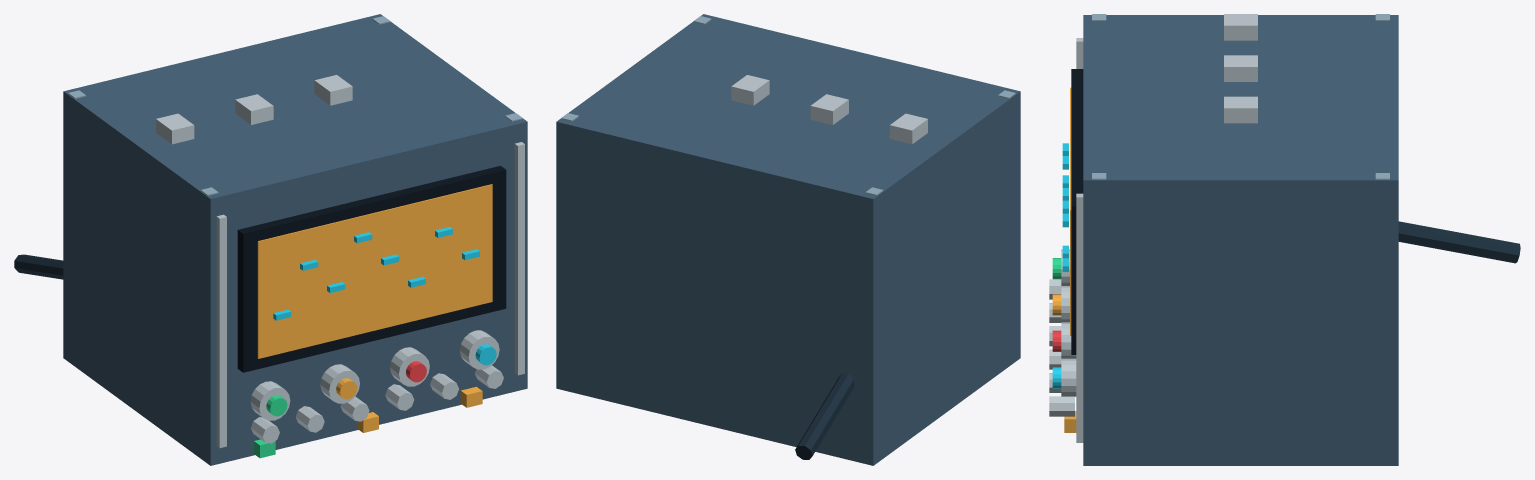
File: 16_L80_LaunchOpticalPowerMeter.fbx
The picture shows the model from 3 angles, left to right: view 1: azimuth 30°, elevation 25°; view 2: azimuth 150°, elevation 25°; view 3: azimuth 270°, elevation 25°; orthographic projection. The views are drawn at different scales.
Visible parts, largest first — view 1: LaunchOpticalPowerMeter; view 2: LaunchOpticalPowerMeter; view 3: LaunchOpticalPowerMeter.
Boxes of the visible parts, x1,y1,x2,y2 form: LaunchOpticalPowerMeter: (14,14,527,465); LaunchOpticalPowerMeter: (556,14,1020,465); LaunchOpticalPowerMeter: (1049,14,1520,465).
Bounding box in the file's own units: 92 × 87.11 × 111.
